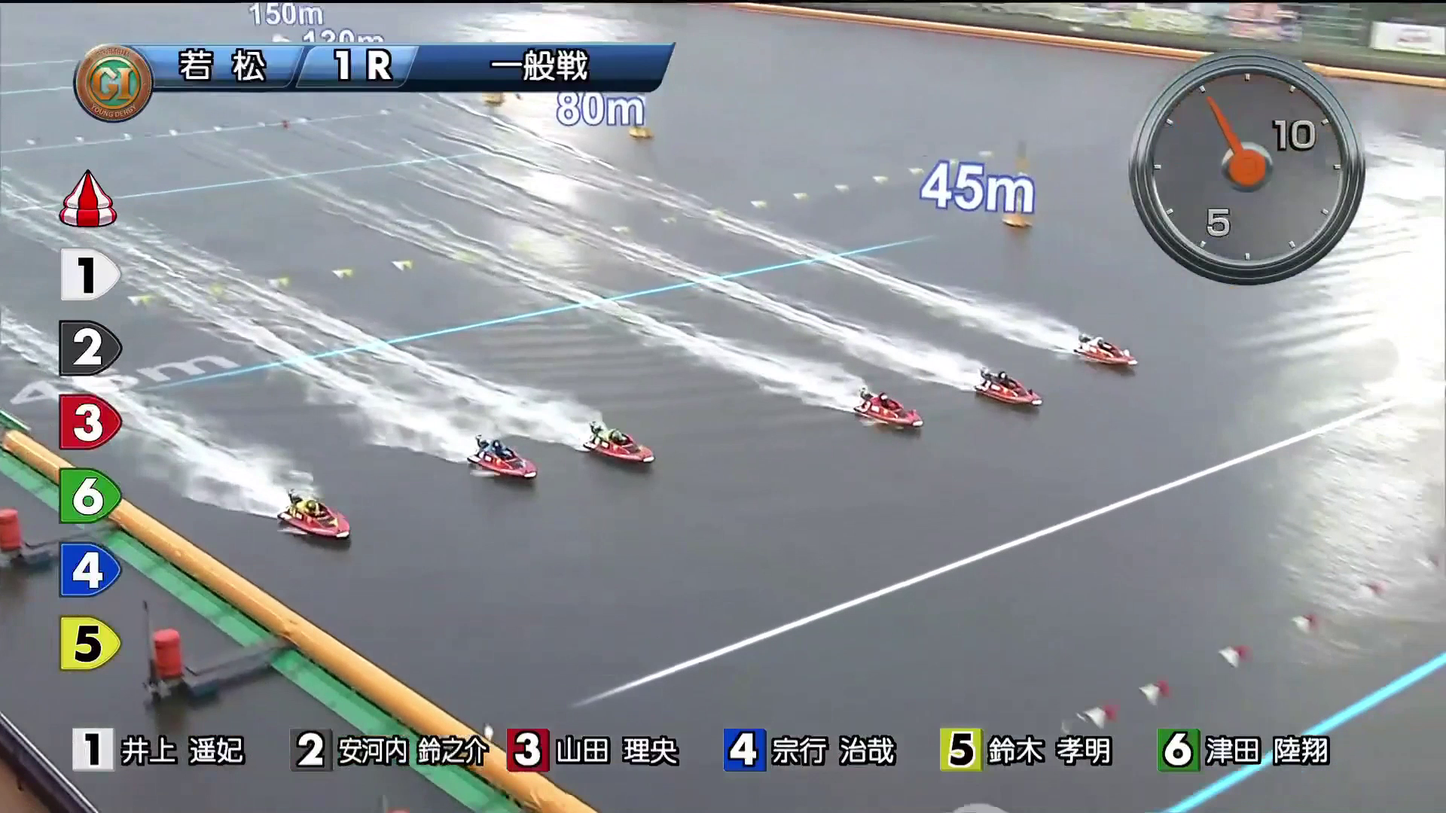１号艇: (1072, 327, 1131, 374)
２号艇: (975, 368, 1037, 406)
３号艇: (858, 387, 913, 428)
４号艇: (591, 424, 653, 467)
５号艇: (468, 443, 537, 481)
６号艇: (287, 500, 352, 546)
